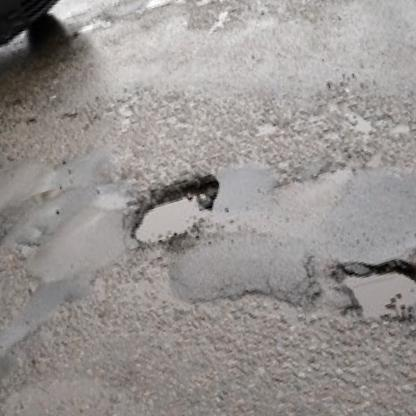pothole: (118, 166, 232, 252), (332, 241, 416, 327)
